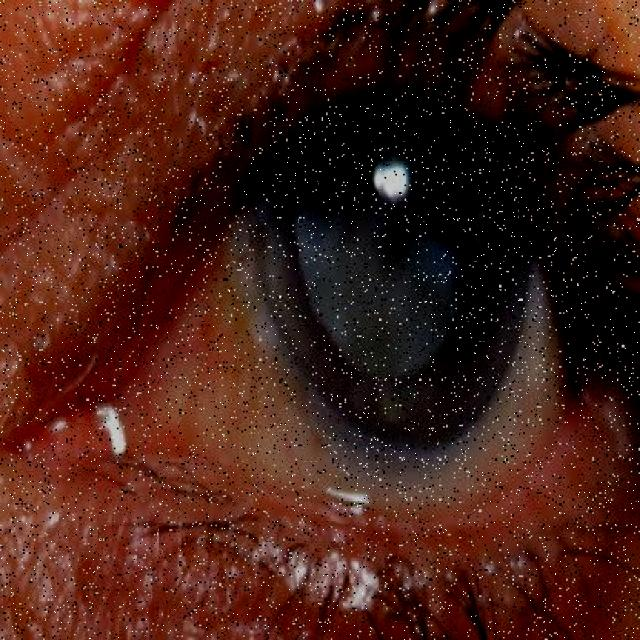Cataract: (195, 90, 558, 561)
